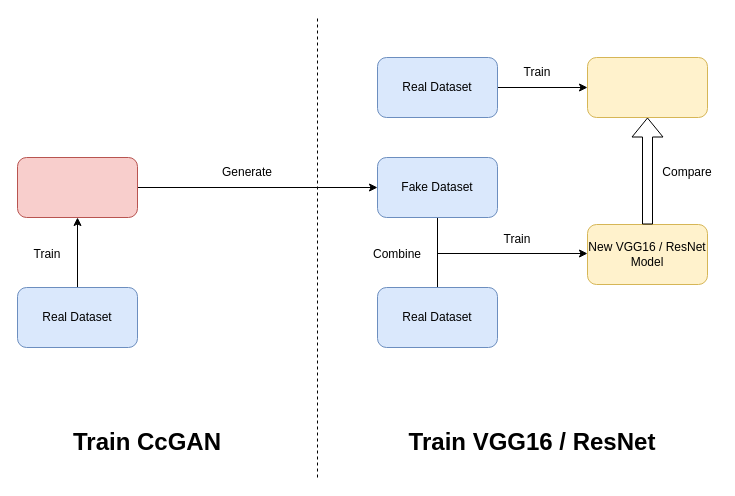
The diagram is 735 pixels wide and 496 high, and some of its shapes have lost their labels. The centre of each missing label's shape, as x and y in pixels:
"CcGAN Model" belongs at point 77,187.
"Old VGG16 / ResNet Model" belongs at point 647,87.
